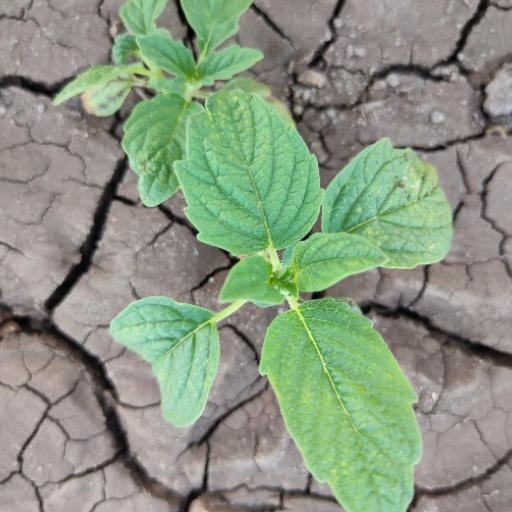crop: (110, 91, 454, 512)
